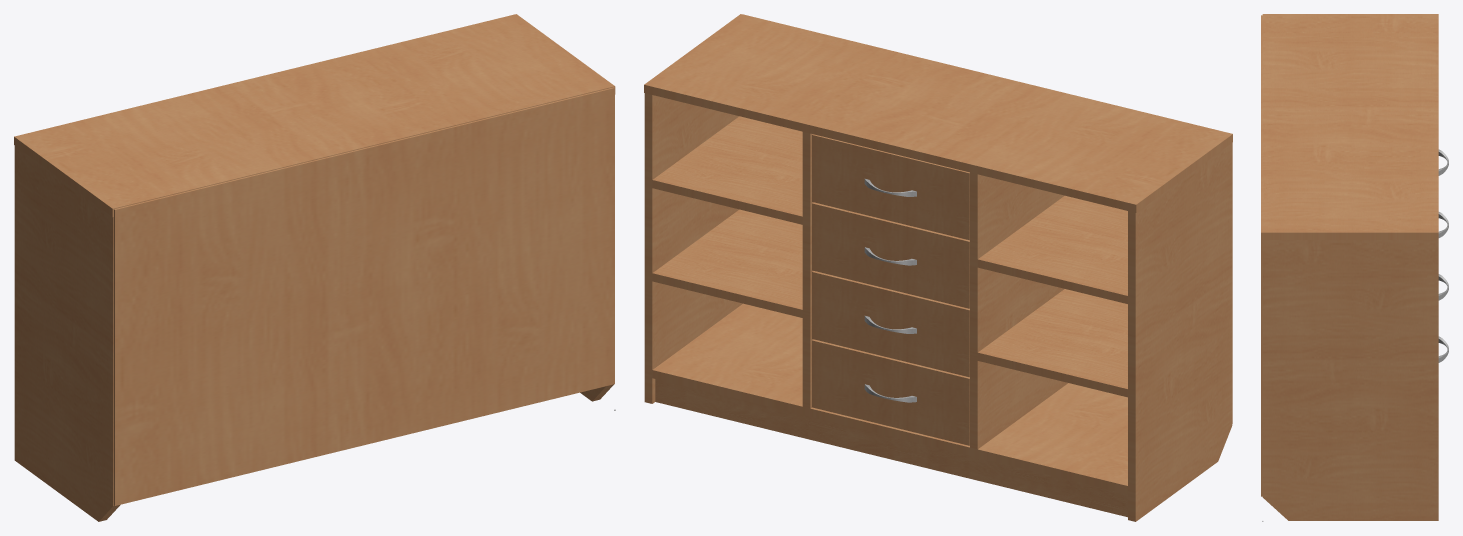
The model's file is komod_mashenka.glb.
The picture shows the model from 3 angles, left to right: view 1: azimuth 30°, elevation 25°; view 2: azimuth 150°, elevation 25°; view 3: azimuth 270°, elevation 25°; orthographic projection. The views are drawn at different scales.
Visible parts, largest first — view 1: Shape_IndexedFaceSet.032_NON, Shape_IndexedFaceSet.036, Shape_IndexedFaceSet.034; view 2: Shape_IndexedFaceSet.036, Shape_IndexedFaceSet.034, Shape_IndexedFaceSet.035, Shape_IndexedFaceSet.033, Shape_IndexedFaceSet.037, Shape_IndexedFaceSet.043, Shape_IndexedFaceSet.001, Shape_IndexedFaceSet.009, Shape_IndexedFaceSet.017, Shape_IndexedFaceSet.025, Shape_IndexedFaceSet.039, Shape_IndexedFaceSet.040 (+3 smaller); view 3: Shape_IndexedFaceSet.033, Shape_IndexedFaceSet.036, Shape_IndexedFaceSet.032_NON.
Part boxes in pixels (x1,y1,x2,y2): Shape_IndexedFaceSet.032_NON: (114,87,614,505); Shape_IndexedFaceSet.036: (14,14,615,216); Shape_IndexedFaceSet.034: (14,146,120,521); Shape_IndexedFaceSet.036: (644,14,1232,212); Shape_IndexedFaceSet.034: (1128,143,1232,521); Shape_IndexedFaceSet.035: (652,303,1127,494); Shape_IndexedFaceSet.033: (644,93,742,403); Shape_IndexedFaceSet.037: (970,172,1067,449); Shape_IndexedFaceSet.043: (655,379,1127,517); Shape_IndexedFaceSet.001: (812,339,969,445); Shape_IndexedFaceSet.009: (812,271,969,377); Shape_IndexedFaceSet.017: (812,202,969,308); Shape_IndexedFaceSet.025: (812,134,969,240); Shape_IndexedFaceSet.039: (652,209,802,317); Shape_IndexedFaceSet.040: (652,116,802,224); Shape_IndexedFaceSet.033: (1262,240,1438,520); Shape_IndexedFaceSet.036: (1262,14,1438,239); Shape_IndexedFaceSet.032_NON: (1261,15,1262,496).
Bounding box in the file's own units: 1001 × 617 × 363.
45 materials, 44 textured.
